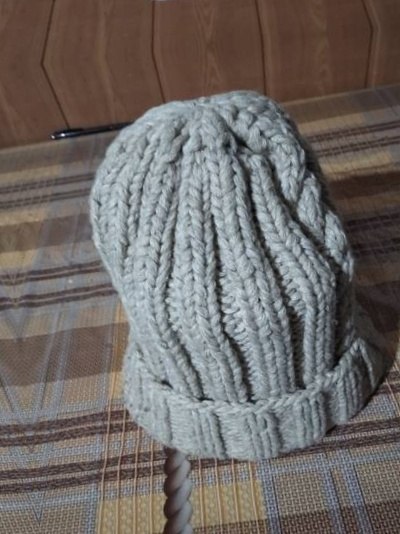Hat: (48, 65, 400, 479), (0, 0, 367, 27)
